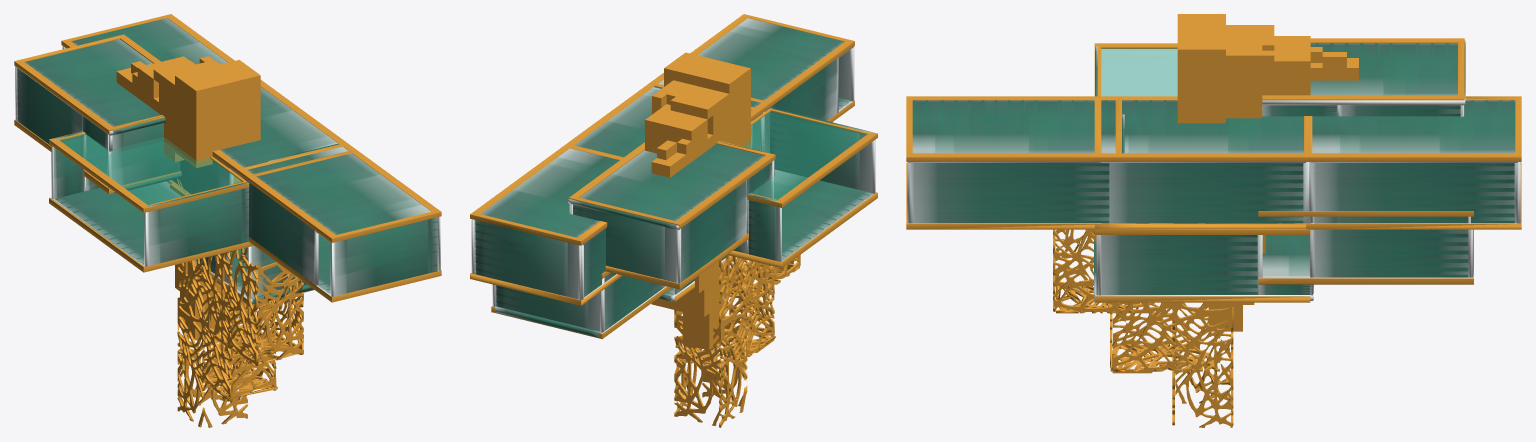
File: labsetup3.glb
3 views of the same model, side by side, from view 1: azimuth 30°, elevation 25°; view 2: azimuth 150°, elevation 25°; view 3: azimuth 270°, elevation 25° (orthographic). The views are drawn at different scales.
Parts seen in each view (by area): view 1: assorted_display_cubes_1433.005; view 2: assorted_display_cubes_1433.005; view 3: assorted_display_cubes_1433.005.
Part boxes in pixels (x1,y1,x2,y2): assorted_display_cubes_1433.005: (14,14,441,427); assorted_display_cubes_1433.005: (470,14,877,427); assorted_display_cubes_1433.005: (906,14,1521,427).
Size of the model in its own units: 1.21 by 1.83 by 2.64.
Materials: 5 (2 with a texture image).
